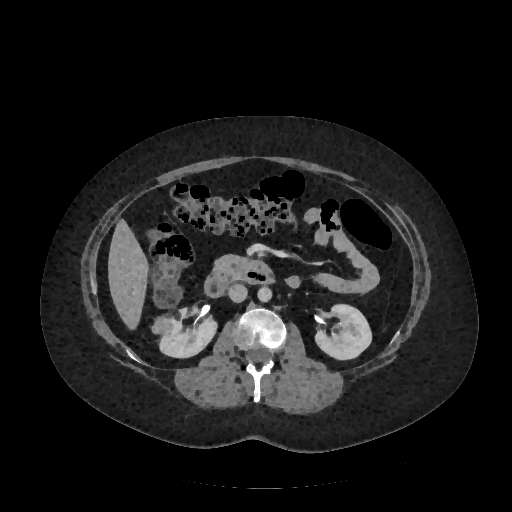Lesion: (145, 314, 177, 338)
